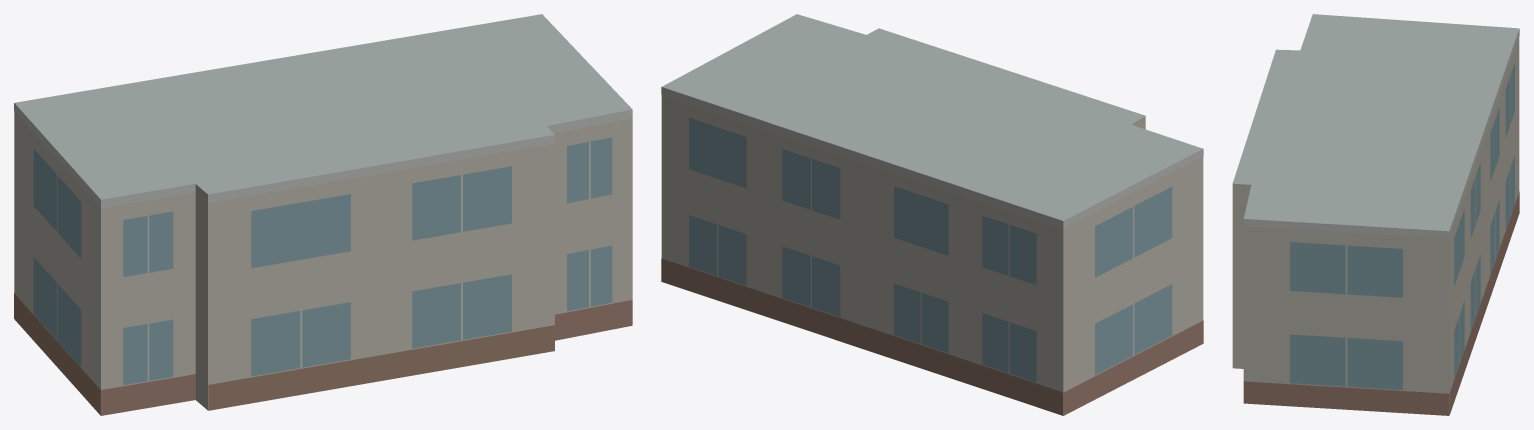
File: survey-upis-32701203.glb
3 views of the same model, side by side, from view 1: azimuth 30°, elevation 25°; view 2: azimuth 150°, elevation 25°; view 3: azimuth 270°, elevation 25° (orthographic). The views are drawn at different scales.
Parts seen in each view (by area): view 1: survey-upis-32701203.tmp; view 2: survey-upis-32701203.tmp; view 3: survey-upis-32701203.tmp.
Boxes of the visible parts, left/top/right/bottom form: survey-upis-32701203.tmp: left=14, top=14, right=632, bottom=415; survey-upis-32701203.tmp: left=661, top=14, right=1203, bottom=415; survey-upis-32701203.tmp: left=1232, top=14, right=1519, bottom=415.
Bounding box in the file's own units: 15.4 × 6.1 × 8.6.
